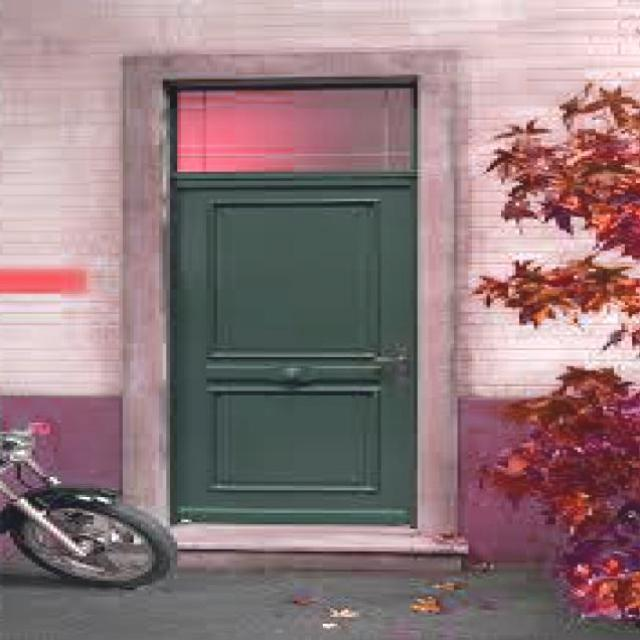door: (170, 175, 418, 525)
